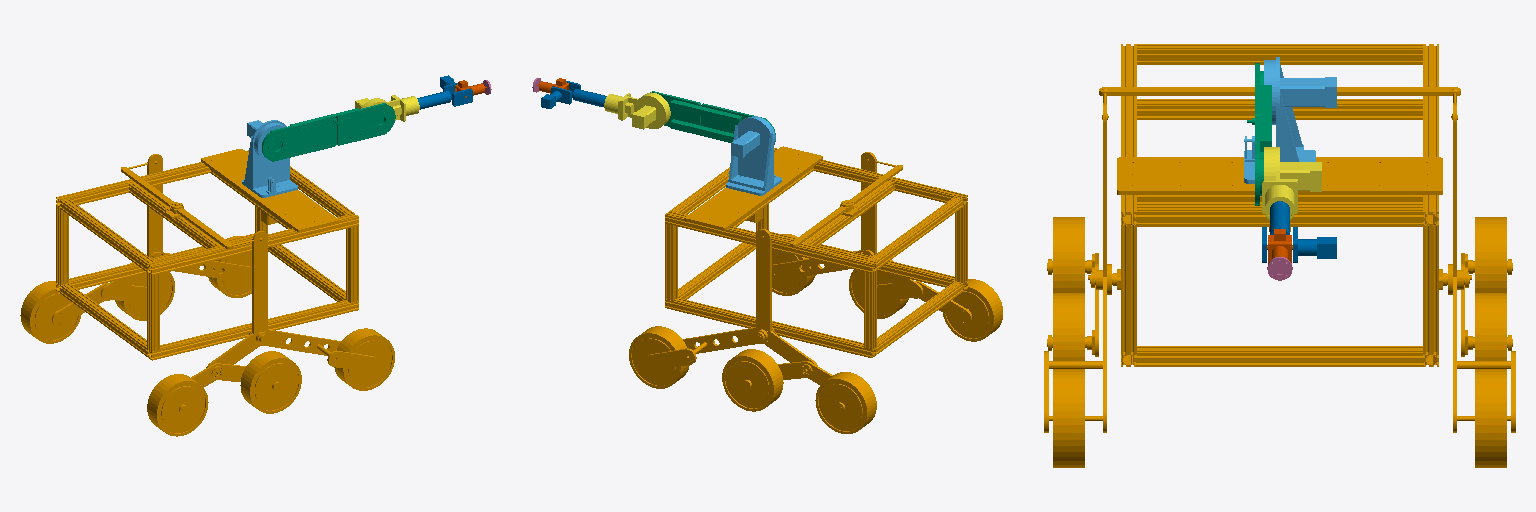
URDF robot description (orchard_rover):
<?xml version="1.0"?>
<robot name="orchard_rover">
  <!-- orchard_rover.urdf_export 생성. 단위 m, 메시는 mm STL × 0.001 -->
  <link name="base_link">
    <inertial>
      <origin xyz="0.025243576 0 0.257795301" rpy="0 0 0"/>
      <mass value="96.3148933"/>
      <inertia ixx="26.7024654" ixy="0" ixz="-1.00986341" iyy="17.1915783" iyz="0" izz="33.6602307"/>
    </inertial>
    <visual>
      <origin xyz="0 0 0" rpy="0 0 0"/>
      <geometry><mesh filename="package://orchard_rover_description/meshes/visual/base_link.stl" scale="0.001 0.001 0.001"/></geometry>
    </visual>
    <collision>
      <origin xyz="0 0 0" rpy="0 0 0"/>
      <geometry><mesh filename="package://orchard_rover_description/meshes/collision/base_link.stl" scale="0.001 0.001 0.001"/></geometry>
    </collision>
  </link>
  <link name="j1_link">
    <inertial>
      <origin xyz="-0.000352136866 0.0106471939 -0.080129359" rpy="0 0 0"/>
      <mass value="5.92144628"/>
      <inertia ixx="0.0677475533" ixy="-0.000182102707" ixz="-0.000196846173" iyy="0.0682871591" iyz="-0.00318225592" izz="0.0254036824"/>
    </inertial>
    <visual>
      <origin xyz="0 0 0" rpy="0 0 0"/>
      <geometry><mesh filename="package://orchard_rover_description/meshes/visual/j1_link.stl" scale="0.001 0.001 0.001"/></geometry>
    </visual>
    <collision>
      <origin xyz="0 0 0" rpy="0 0 0"/>
      <geometry><mesh filename="package://orchard_rover_description/meshes/collision/j1_link.stl" scale="0.001 0.001 0.001"/></geometry>
    </collision>
  </link>
  <link name="upper_arm">
    <inertial>
      <origin xyz="0.245560731 -0.0468850893 6.17477502e-05" rpy="0 0 0"/>
      <mass value="4.91584945"/>
      <inertia ixx="0.00868362492" ixy="0.000256359384" ixz="-9.16256813e-06" iyy="0.145417132" iyz="6.8183985e-06" izz="0.13806107"/>
    </inertial>
    <visual>
      <origin xyz="0 0 0" rpy="0 0 0"/>
      <geometry><mesh filename="package://orchard_rover_description/meshes/visual/upper_arm.stl" scale="0.001 0.001 0.001"/></geometry>
    </visual>
    <collision>
      <origin xyz="0 0 0" rpy="0 0 0"/>
      <geometry><mesh filename="package://orchard_rover_description/meshes/collision/upper_arm.stl" scale="0.001 0.001 0.001"/></geometry>
    </collision>
  </link>
  <link name="forearm_root">
    <inertial>
      <origin xyz="0.0480602062 0.00548406647 0" rpy="0 0 0"/>
      <mass value="3.71421336"/>
      <inertia ixx="0.00774008989" ixy="0.000725466416" ixz="0" iyy="0.0235033932" iyz="0" izz="0.0248455022"/>
    </inertial>
    <visual>
      <origin xyz="0 0 0" rpy="0 0 0"/>
      <geometry><mesh filename="package://orchard_rover_description/meshes/visual/forearm_root.stl" scale="0.001 0.001 0.001"/></geometry>
    </visual>
    <collision>
      <origin xyz="0 0 0" rpy="0 0 0"/>
      <geometry><mesh filename="package://orchard_rover_description/meshes/collision/forearm_root.stl" scale="0.001 0.001 0.001"/></geometry>
    </collision>
  </link>
  <link name="forearm_tube">
    <inertial>
      <origin xyz="0.25601847 0.0383089033 0" rpy="0 0 0"/>
      <mass value="1.05579558"/>
      <inertia ixx="0.00344557785" ixy="-0.001859786" ixz="0" iyy="0.00608919381" iyz="0" izz="0.00909023218"/>
    </inertial>
    <visual>
      <origin xyz="0 0 0" rpy="0 0 0"/>
      <geometry><mesh filename="package://orchard_rover_description/meshes/visual/forearm_tube.stl" scale="0.001 0.001 0.001"/></geometry>
    </visual>
    <collision>
      <origin xyz="0 0 0" rpy="0 0 0"/>
      <geometry><mesh filename="package://orchard_rover_description/meshes/collision/forearm_tube.stl" scale="0.001 0.001 0.001"/></geometry>
    </collision>
  </link>
  <link name="wrist">
    <inertial>
      <origin xyz="0.0317566895 6.79149833e-05 0.00257357269" rpy="0 0 0"/>
      <mass value="0.755370154"/>
      <inertia ixx="0.000410515285" ixy="1.62914838e-06" ixz="4.22950043e-05" iyy="0.00103497733" iyz="1.32026728e-07" izz="0.000976480965"/>
    </inertial>
    <visual>
      <origin xyz="0 0 0" rpy="0 0 0"/>
      <geometry><mesh filename="package://orchard_rover_description/meshes/visual/wrist.stl" scale="0.001 0.001 0.001"/></geometry>
    </visual>
    <collision>
      <origin xyz="0 0 0" rpy="0 0 0"/>
      <geometry><mesh filename="package://orchard_rover_description/meshes/collision/wrist.stl" scale="0.001 0.001 0.001"/></geometry>
    </collision>
  </link>
  <link name="flange">
    <inertial>
      <origin xyz="-0.0042758675 0 -0.000194529751" rpy="0 0 0"/>
      <mass value="0.0588655727"/>
      <inertia ixx="3.1266243e-05" ixy="0" ixz="1.4610093e-08" iyy="1.57884288e-05" iyz="0" izz="1.6076934e-05"/>
    </inertial>
    <visual>
      <origin xyz="0 0 0" rpy="0 0 0"/>
      <geometry><mesh filename="package://orchard_rover_description/meshes/visual/flange.stl" scale="0.001 0.001 0.001"/></geometry>
    </visual>
    <collision>
      <origin xyz="0 0 0" rpy="0 0 0"/>
      <geometry><mesh filename="package://orchard_rover_description/meshes/collision/flange.stl" scale="0.001 0.001 0.001"/></geometry>
    </collision>
  </link>
  <link name="tool0"/>
  <joint name="J1" type="revolute">
    <parent link="base_link"/>
    <child link="j1_link"/>
    <origin xyz="0.3 0 0.958" rpy="0 0 0"/>
    <axis xyz="0 0 1"/>
    <limit lower="-3.14159265" upper="3.14159265" effort="24" velocity="0.785398163"/>
  </joint>
  <joint name="J2" type="revolute">
    <parent link="j1_link"/>
    <child link="upper_arm"/>
    <origin xyz="0 0 0" rpy="0 0 0"/>
    <axis xyz="0 -1 0"/>
    <limit lower="-0.34906585" upper="1.57079633" effort="80" velocity="0.523598776"/>
  </joint>
  <joint name="J3" type="revolute">
    <parent link="upper_arm"/>
    <child link="forearm_root"/>
    <origin xyz="0.5 0 0" rpy="0 0 0"/>
    <axis xyz="0 -1 0"/>
    <limit lower="-2.0943951" upper="2.0943951" effort="54" velocity="0.523598776"/>
  </joint>
  <joint name="J4" type="revolute">
    <parent link="forearm_root"/>
    <child link="forearm_tube"/>
    <origin xyz="0.12 0 0" rpy="0 0 0"/>
    <axis xyz="1 0 0"/>
    <limit lower="-3.14159265" upper="3.14159265" effort="11.5" velocity="0.785398163"/>
  </joint>
  <joint name="J5" type="revolute">
    <parent link="forearm_tube"/>
    <child link="wrist"/>
    <origin xyz="0.302 0 0" rpy="0 0 0"/>
    <axis xyz="0 -1 0"/>
    <limit lower="-1.91986218" upper="1.91986218" effort="11.5" velocity="0.785398163"/>
  </joint>
  <joint name="J6" type="revolute">
    <parent link="wrist"/>
    <child link="flange"/>
    <origin xyz="0.128 0 0" rpy="0 0 0"/>
    <axis xyz="1 0 0"/>
    <limit lower="-3.14159265" upper="3.14159265" effort="3.6" velocity="1.04719755"/>
  </joint>
  <joint name="tool0_fixed" type="fixed">
    <parent link="flange"/>
    <child link="tool0"/>
    <origin xyz="0 0 0" rpy="0 0 0"/>
  </joint>
</robot>

--- Facts derived from the render (not from the file) ---
Views: 3 orthographic renders of the robot side by side, from view 1: azimuth 30°, elevation 25°; view 2: azimuth 150°, elevation 25°; view 3: azimuth 270°, elevation 25°.
Robot: orchard_rover — 8 links, 7 joints (6 revolute, 1 fixed); root link base_link; default pose: every joint at zero.
Visible links, largest first — view 1: base_link, upper_arm, j1_link, forearm_tube, forearm_root; view 2: base_link, j1_link, upper_arm, forearm_root, forearm_tube; view 3: base_link, j1_link, forearm_root, upper_arm, forearm_tube, wrist.
Boxes of the visible links, x1,y1,x2,y2 form: base_link: (20, 149, 394, 436); upper_arm: (262, 103, 395, 161); j1_link: (242, 120, 297, 197); forearm_tube: (417, 75, 472, 109); forearm_root: (355, 95, 419, 121); base_link: (629, 146, 1002, 433); j1_link: (726, 116, 781, 195); upper_arm: (650, 91, 775, 142); forearm_root: (604, 92, 670, 129); forearm_tube: (541, 81, 606, 108); base_link: (1044, 44, 1515, 467); j1_link: (1244, 57, 1336, 183); forearm_root: (1262, 147, 1321, 219); upper_arm: (1247, 63, 1271, 205); forearm_tube: (1262, 201, 1336, 262); wrist: (1267, 229, 1292, 262).
Size in the robot's own frame: 1.93 by 1.18 by 1.05 metres.
Meshes: 7 distinct files referenced, 7 mesh visuals loaded (7 binary STL).
